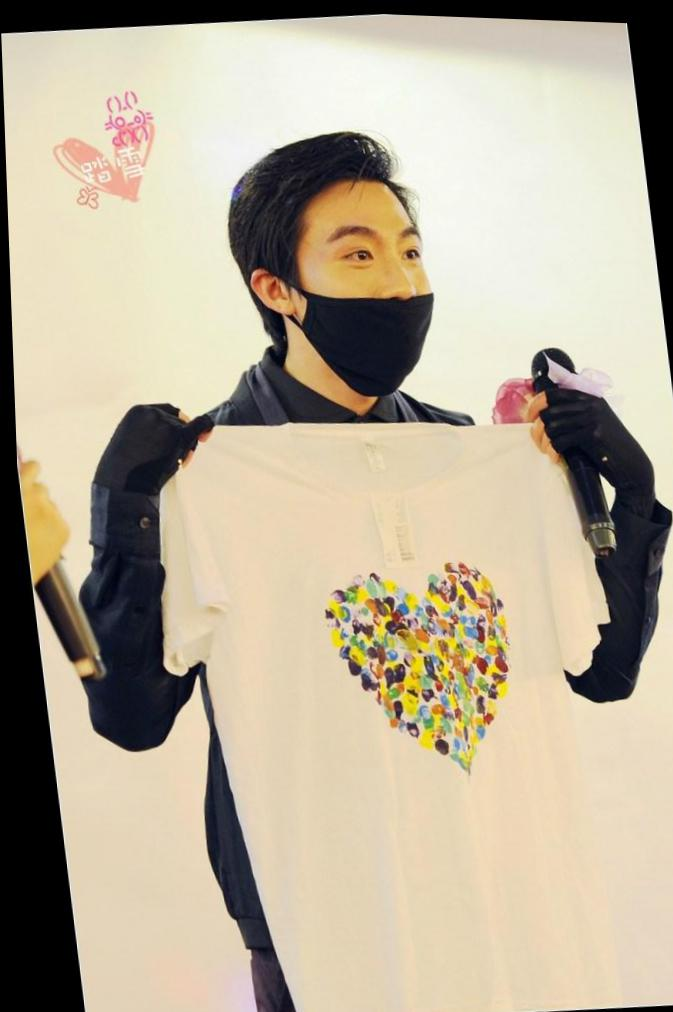WRONG: (273, 207, 457, 391)
